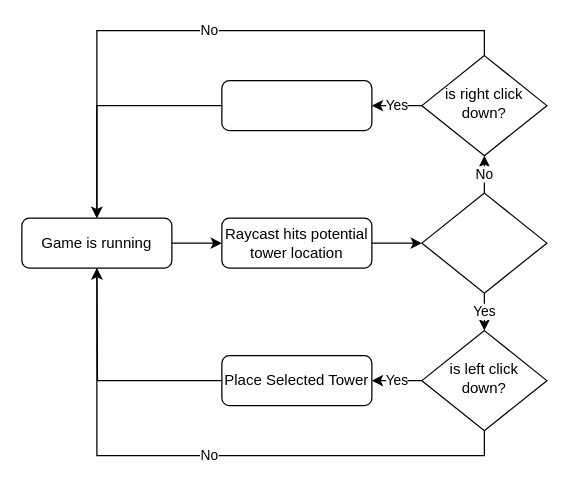
Image size: 569x488. Some labels were removed from this diagram. The centre of each missing label's shape, as x and y in pixels:
"Delete Selected Tower" goes at (x=296, y=105).
"is location empty?" goes at (x=484, y=242).
